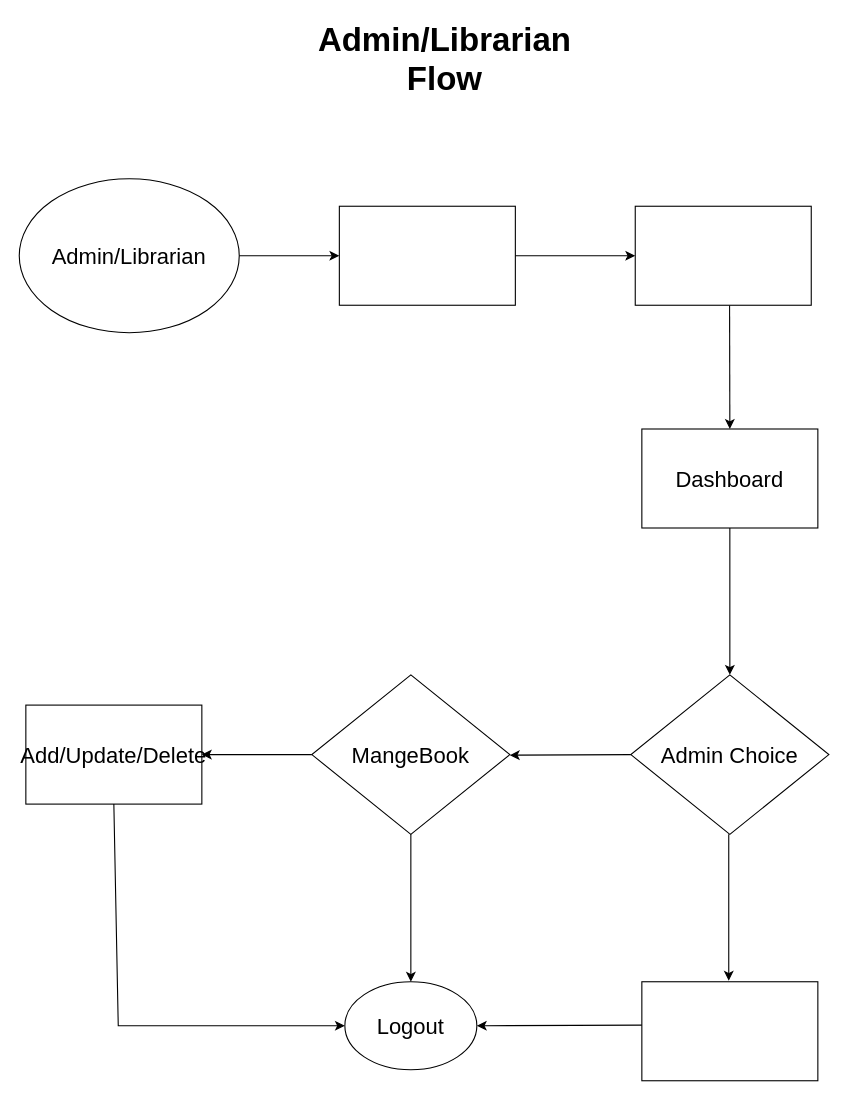
Image size: 848x1100. Some labels were removed from this diagram. Here are the shapes that lost their labels. From the top down, the centre of each, then its label:
At point 426,255: "Home".
At point 722,255: "Login".
At point 729,1031: "View Users/ BorrowList/ DefaulterList".
